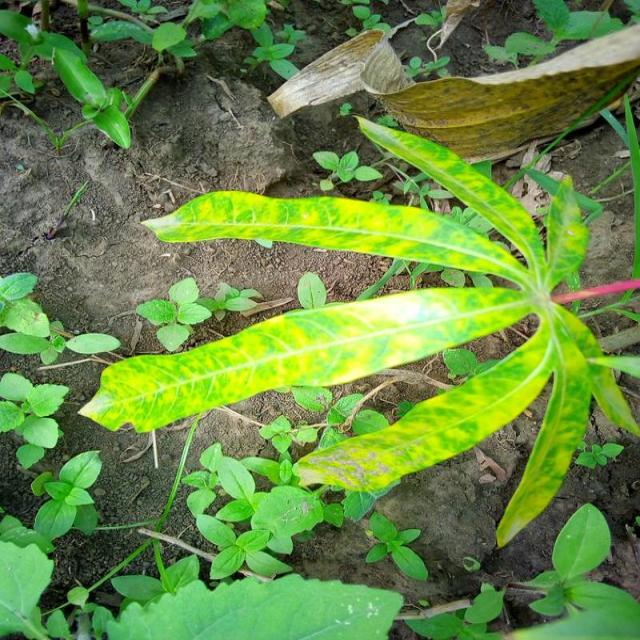cassava leaf: (77, 110, 638, 548), (76, 283, 536, 434), (138, 188, 536, 286), (374, 22, 638, 164)
